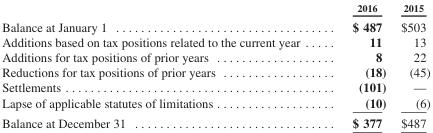table: (1, 1, 429, 129)
table column: (1, 1, 325, 129), (325, 1, 392, 129), (392, 1, 429, 129)
table column header: (1, 1, 429, 15)
table row: (1, 15, 429, 33), (1, 94, 429, 112), (1, 112, 429, 129), (1, 33, 429, 49), (1, 49, 429, 64), (1, 64, 429, 79), (1, 79, 429, 94), (1, 1, 429, 15)
